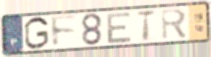8: (81, 12, 104, 47)
E: (106, 10, 134, 45)
F: (49, 14, 78, 49)
G: (23, 16, 50, 51)
R: (160, 7, 189, 42)
T: (136, 8, 157, 43)
